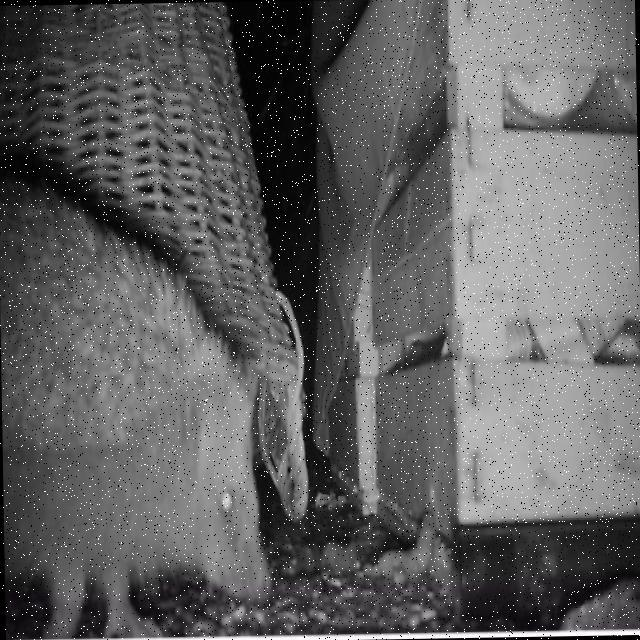Hedgehog: (4, 193, 270, 622)
